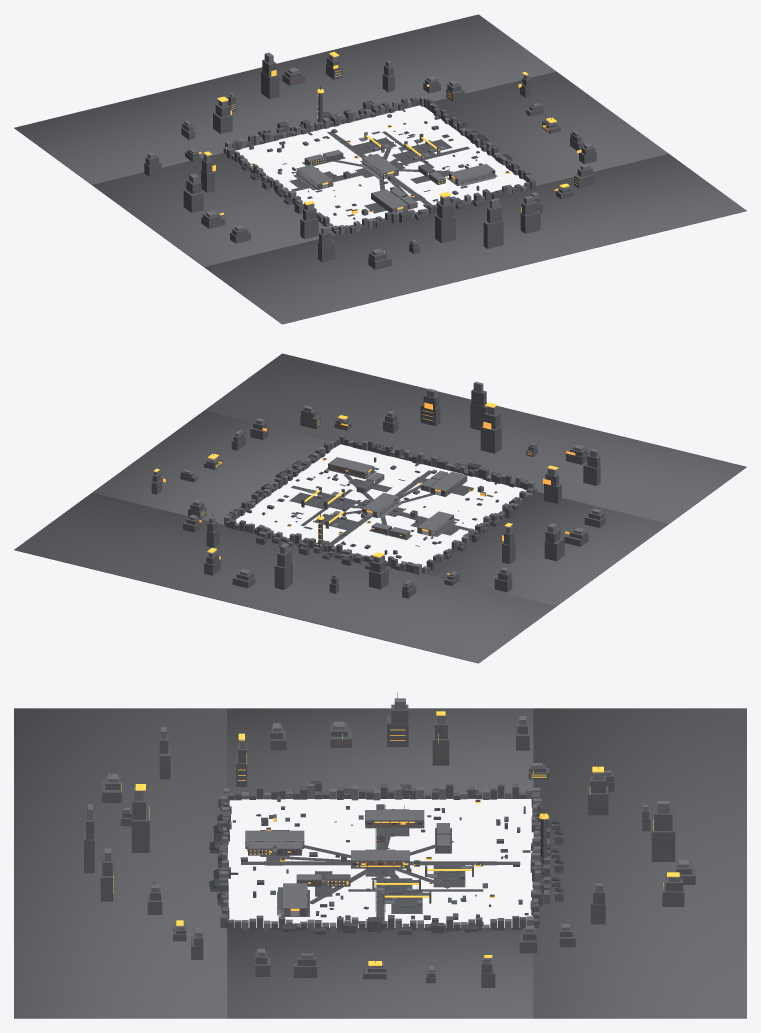
3 renders of one model, top to bottom at view 1: azimuth 30°, elevation 25°; view 2: azimuth 150°, elevation 25°; view 3: azimuth 270°, elevation 25°, orthographic. The views are drawn at different scales.
Visible parts, largest first — view 1: HB_z01_LOD0_terrain, HB_z01_LOD0_wall_alt, HB_z01_LOD0_wall, HB_z01_LOD0_road, HB_z01_LOD0_trim, HB_z01_LOD0_emissive, HB_z01_LOD0_obstacle; view 2: HB_z01_LOD0_terrain, HB_z01_LOD0_wall_alt, HB_z01_LOD0_wall, HB_z01_LOD0_road, HB_z01_LOD0_trim, HB_z01_LOD0_emissive, HB_z01_LOD0_obstacle, HB_z01_LOD0_glass; view 3: HB_z01_LOD0_terrain, HB_z01_LOD0_wall_alt, HB_z01_LOD0_wall, HB_z01_LOD0_road, HB_z01_LOD0_trim, HB_z01_LOD0_emissive, HB_z01_LOD0_obstacle, HB_z01_LOD0_glass.
Boxes of the visible parts, <box> form: HB_z01_LOD0_terrain: <box>14,14,746,324</box>; HB_z01_LOD0_wall_alt: <box>144,57,596,269</box>; HB_z01_LOD0_wall: <box>147,52,592,255</box>; HB_z01_LOD0_road: <box>290,124,495,213</box>; HB_z01_LOD0_trim: <box>241,57,551,222</box>; HB_z01_LOD0_emissive: <box>198,52,581,251</box>; HB_z01_LOD0_obstacle: <box>249,103,479,219</box>; HB_z01_LOD0_terrain: <box>14,353,746,663</box>; HB_z01_LOD0_wall_alt: <box>151,389,605,598</box>; HB_z01_LOD0_wall: <box>154,381,601,586</box>; HB_z01_LOD0_road: <box>275,468,473,544</box>; HB_z01_LOD0_trim: <box>212,407,519,567</box>; HB_z01_LOD0_emissive: <box>153,402,575,574</box>; HB_z01_LOD0_obstacle: <box>247,458,511,563</box>; HB_z01_LOD0_glass: <box>158,411,594,557</box>; HB_z01_LOD0_terrain: <box>14,708,746,1018</box>; HB_z01_LOD0_wall_alt: <box>84,704,695,987</box>; HB_z01_LOD0_wall: <box>87,698,688,972</box>; HB_z01_LOD0_road: <box>241,804,519,920</box>; HB_z01_LOD0_trim: <box>111,692,598,962</box>; HB_z01_LOD0_emissive: <box>113,711,679,965</box>; HB_z01_LOD0_obstacle: <box>231,799,549,927</box>; HB_z01_LOD0_glass: <box>250,739,651,933</box>.
Size of the model in its own units: 722 by 68.13 by 722.
11 materials, 8 textured.
